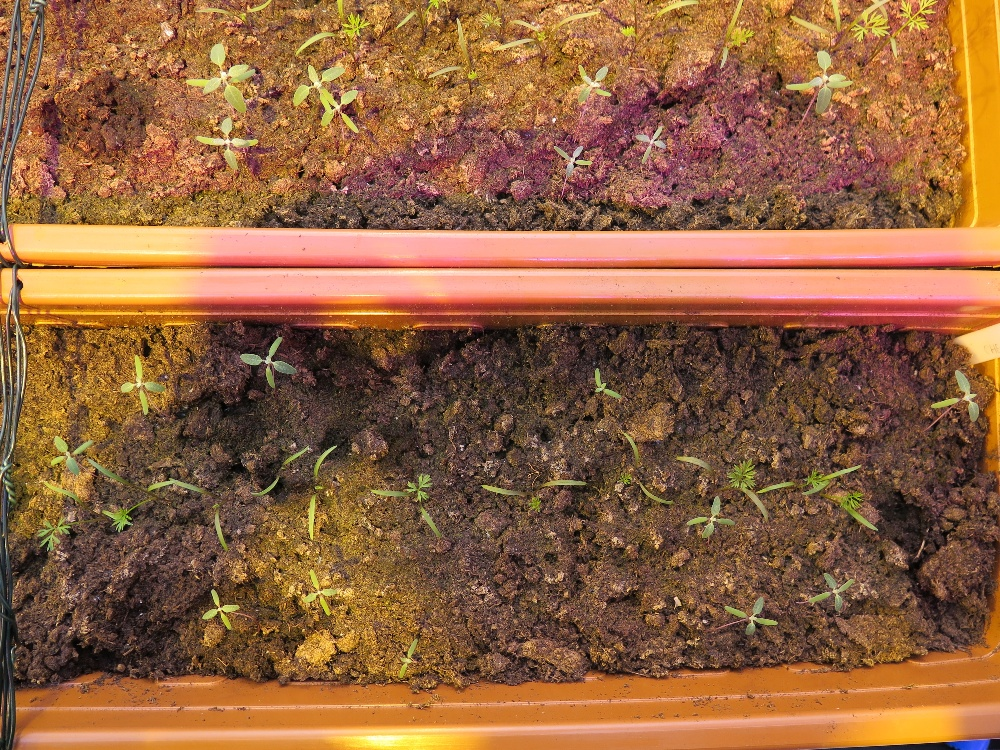weed: (407, 6, 606, 67), (673, 451, 797, 512), (790, 465, 881, 538), (288, 1, 390, 60), (291, 64, 376, 133), (377, 461, 450, 541), (181, 42, 256, 115), (306, 428, 347, 546), (799, 42, 853, 122), (620, 428, 676, 504), (194, 114, 261, 171), (237, 335, 298, 390), (118, 352, 167, 416), (930, 367, 982, 425), (254, 450, 310, 498), (722, 592, 780, 637), (685, 494, 737, 541), (475, 475, 593, 495), (806, 570, 855, 611), (200, 586, 242, 633), (301, 566, 338, 616), (575, 62, 611, 105), (634, 124, 669, 164), (553, 143, 594, 177), (592, 366, 626, 400), (397, 636, 418, 679)
